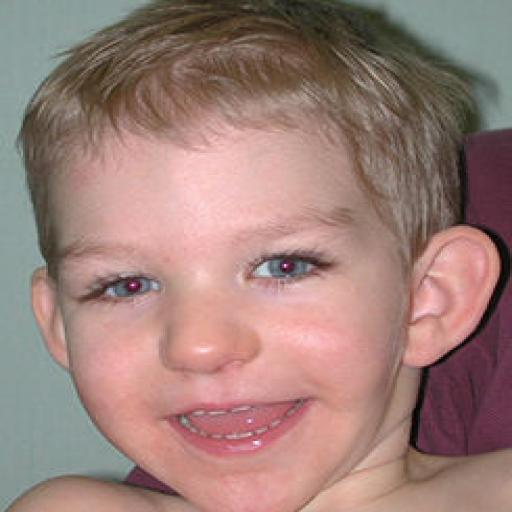Autism: (24, 22, 512, 506)
